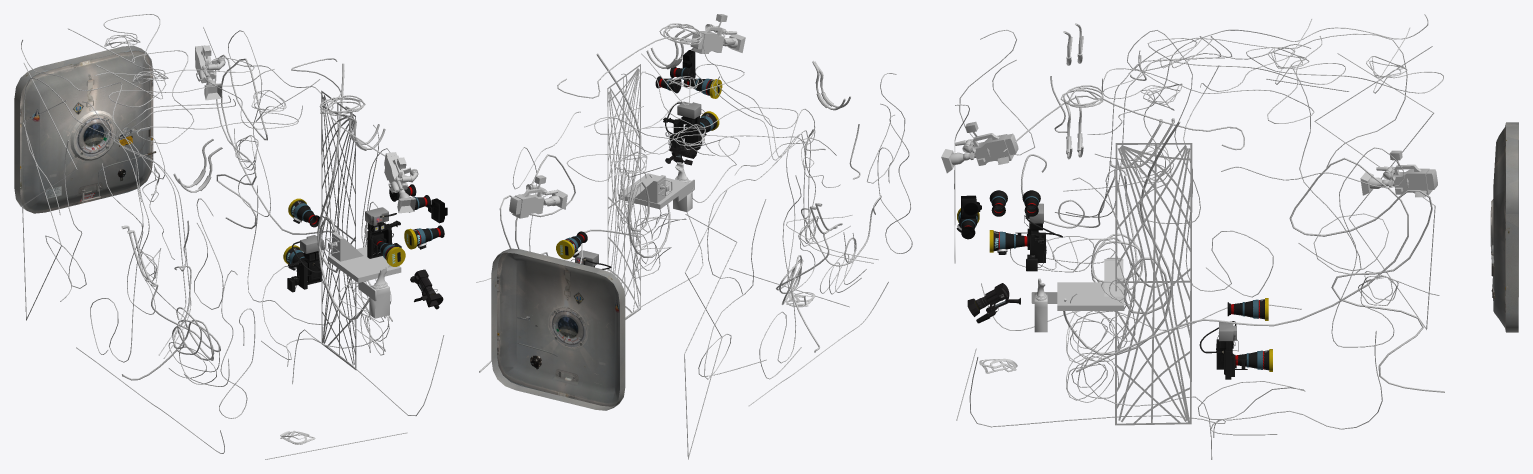
The model's file is Destiny_Wires.FBX.
The picture shows the model from 3 angles, left to right: view 1: azimuth 30°, elevation 25°; view 2: azimuth 150°, elevation 25°; view 3: azimuth 270°, elevation 25°; orthographic projection. The views are drawn at different scales.
Visible parts, largest first — view 1: Hatch006, Line018, Box292, Line043, NasaCam_005, Camera_003, NasaCam_003, Camera_002, Line047, Line039, Line040, Line041 (+19 smaller); view 2: Hatch006, Line018, Box292, NasaCam_003, Camera_002, Camera_003, Line047, Line039, Line041, Line040, Line031, Line029 (+13 smaller); view 3: Line018, Hatch006, Box292, Line043, Camera_003, Camera_002, Line042, NasaCam_005, Line047, Line045, NasaCam_003, Line029 (+18 smaller).
Boxes of the visible parts, left/top/right/bottom form: Hatch006: left=14, top=45, right=156, bottom=213; Line018: left=321, top=90, right=356, bottom=370; Box292: left=325, top=232, right=401, bottom=318; Line043: left=214, top=54, right=392, bottom=321; NasaCam_005: left=287, top=235, right=323, bottom=292; Camera_003: left=384, top=152, right=418, bottom=213; NasaCam_003: left=365, top=207, right=401, bottom=258; Camera_002: left=195, top=45, right=225, bottom=100; Line047: left=317, top=63, right=391, bottom=320; Line039: left=96, top=50, right=302, bottom=143; Line040: left=94, top=57, right=319, bottom=129; Line041: left=68, top=14, right=274, bottom=107; Hatch006: left=491, top=248, right=625, bottom=410; Line018: left=607, top=64, right=640, bottom=319; Box292: left=618, top=162, right=694, bottom=211; NasaCam_003: left=663, top=101, right=706, bottom=149; Camera_002: left=509, top=175, right=567, bottom=218; Camera_003: left=690, top=14, right=745, bottom=53; Line047: left=596, top=53, right=670, bottom=257; Line039: left=625, top=45, right=798, bottom=154; Line041: left=566, top=72, right=739, bottom=181; Line040: left=594, top=53, right=744, bottom=155; Line031: left=684, top=190, right=737, bottom=459; Line029: left=735, top=108, right=852, bottom=291; Line018: left=1115, top=143, right=1192, bottom=425; Hatch006: left=1490, top=122, right=1518, bottom=332; Box292: left=1031, top=257, right=1124, bottom=332; Line043: left=1076, top=157, right=1444, bottom=392; Camera_003: left=941, top=121, right=1018, bottom=173; Camera_002: left=1360, top=150, right=1437, bottom=197; Line042: left=1221, top=147, right=1439, bottom=347; NasaCam_005: left=1199, top=321, right=1247, bottom=379; Line047: left=1063, top=121, right=1180, bottom=354; Line045: left=1066, top=248, right=1135, bottom=402; NasaCam_003: left=1015, top=203, right=1062, bottom=271; Line029: left=1095, top=30, right=1311, bottom=223.
Size of the model in its own units: 350 by 431 by 626.
